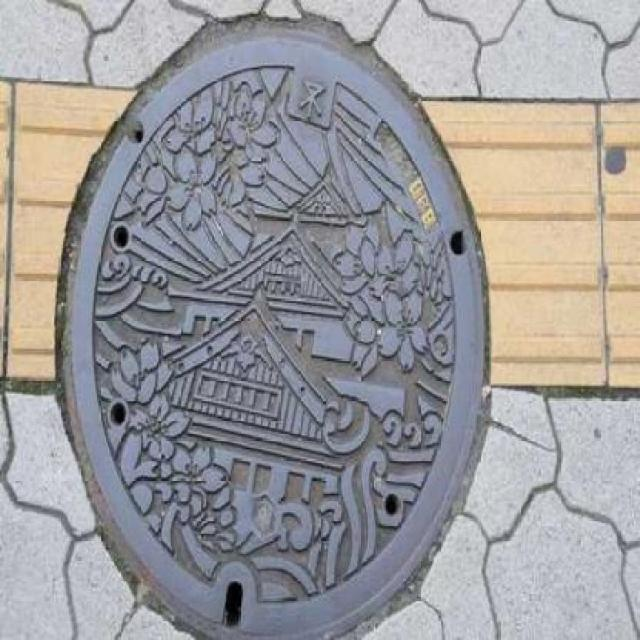Manhole: (56, 18, 521, 640)
